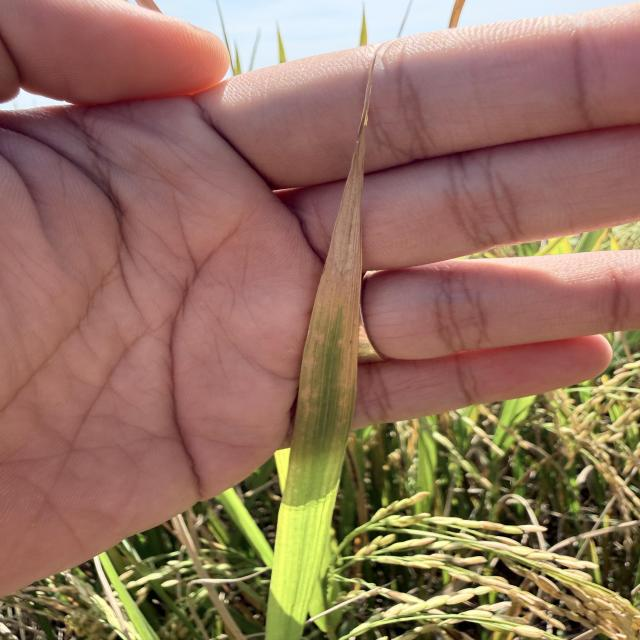Chay bia la: (295, 39, 381, 443)
